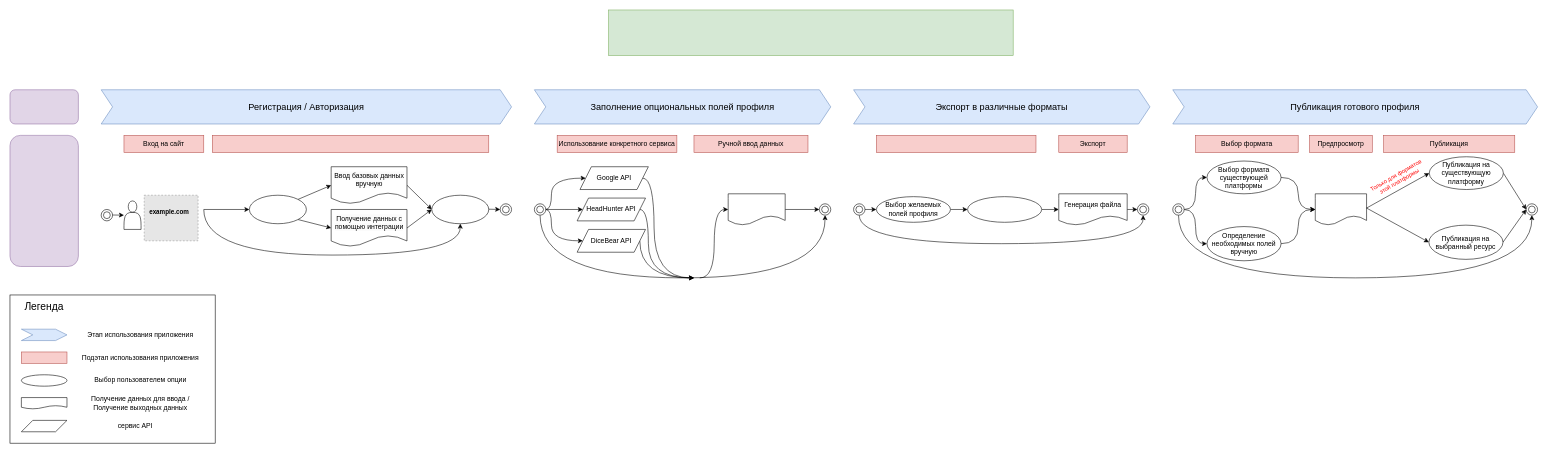
This 1548x453 diagram has some shape labels left out. Grey dashed boxes stand in for pictures. Each missing label, with the centre of its shape:
Авторизация: the point at 460,209
Вход в аккаунт: the point at 350,143
Выбор желаемого формата: the point at 1004,209
Действия: the point at 43,200
Заполнение данных вручную: the point at 756,209
Настройки экспорта: the point at 956,143
Описание клиентских путей: the point at 810,32
Предпросмотр резюме: the point at 1341,209
Регистрация: the point at 277,209
Этап: the point at 43,106
